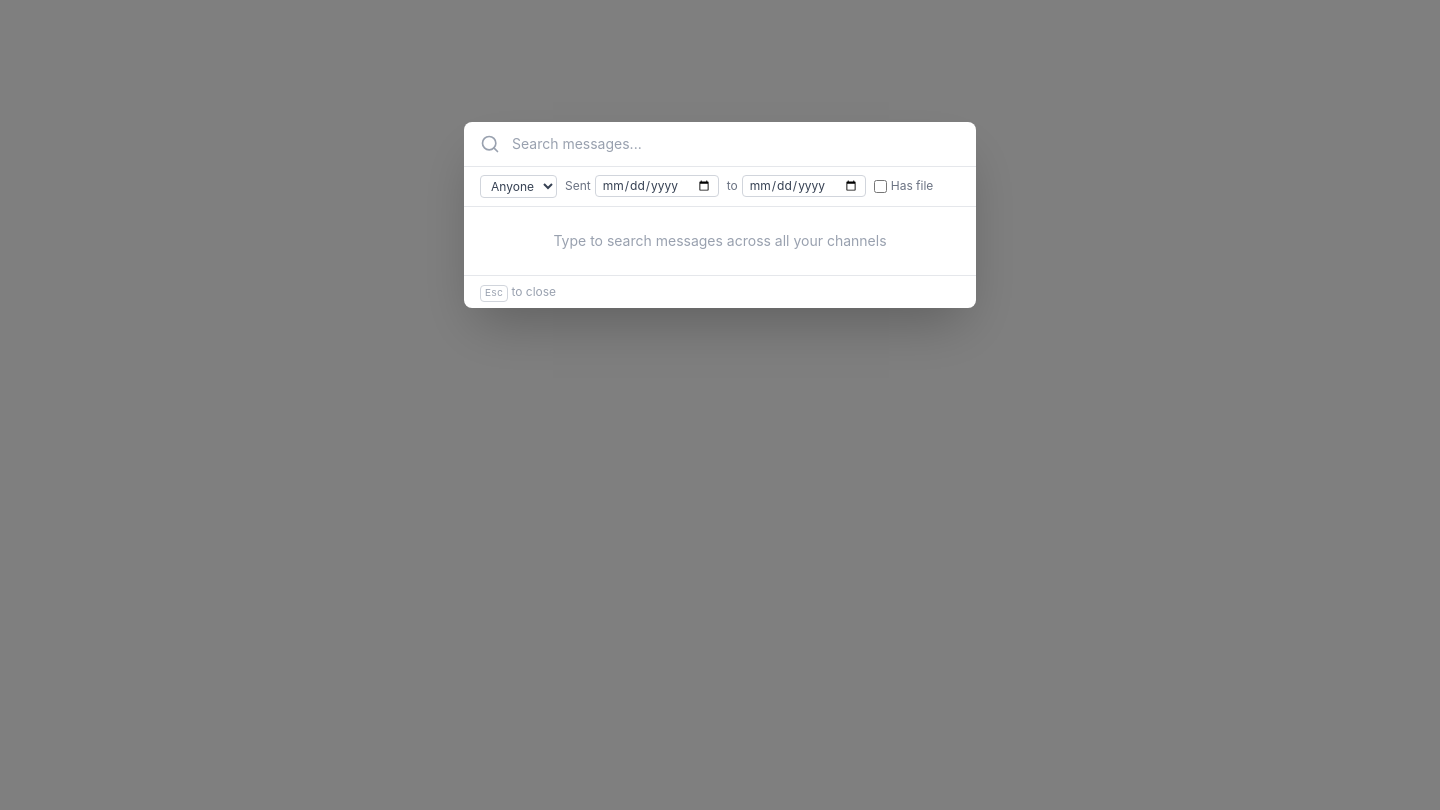
SearchDialog › names the file that matched
This screenshot has width=1440, height=810.
Type "report" into the field with placeholder "Search messages...".
click(736, 144); type("report")  # box [512,134,960,154]
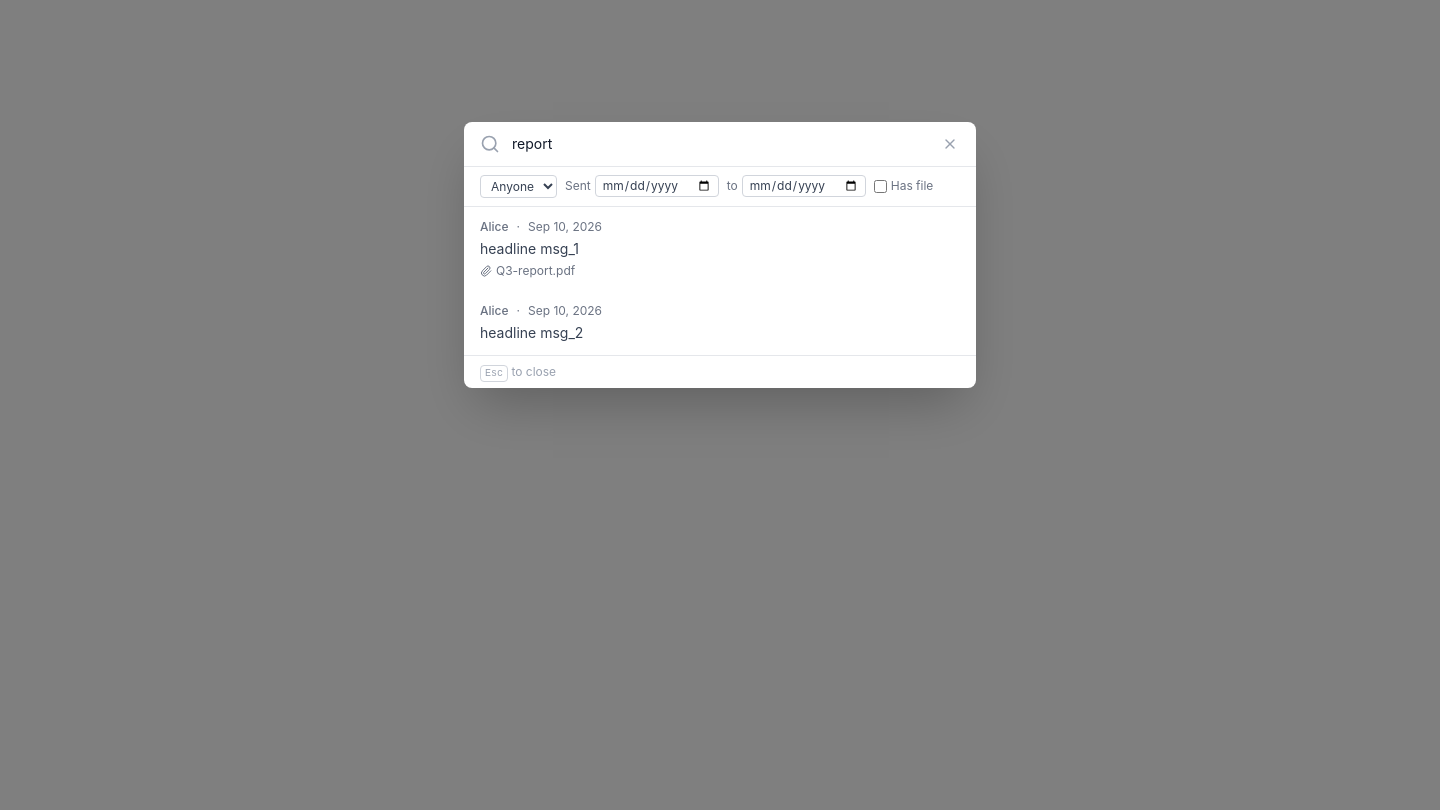
Now the text "Q3-report.pdf" is shown, box [496,262,575,278]
Now the text "headline msg_1" is shown 2 times, box [480,240,579,256]; [480,324,583,340]
